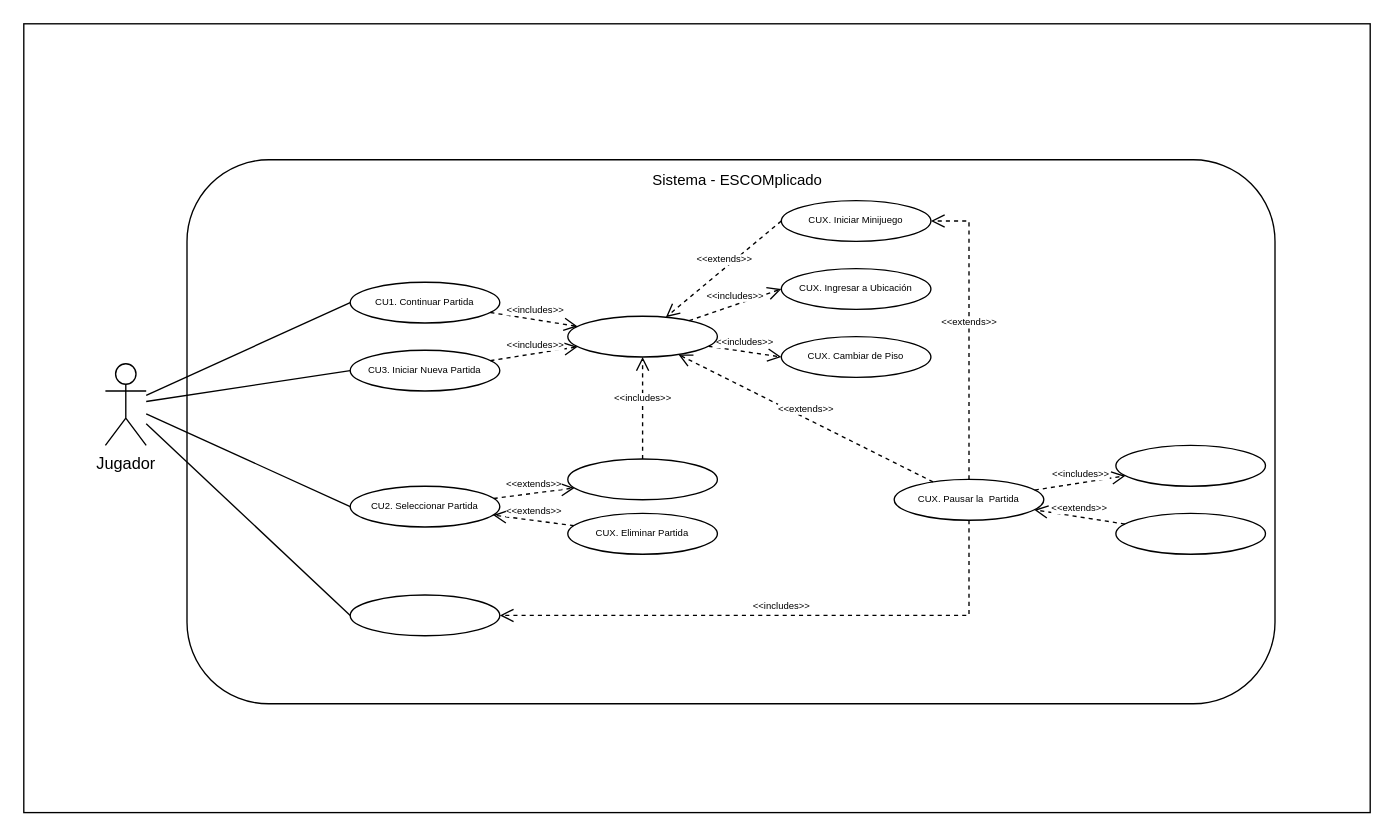
Some shapes in this 1394 by 836 pixel diagram are drawn without their labels. Each missing label, with the box of its shape:
CU3. Salir del Juego: (349, 594, 500, 636)
CUX. Explorar Mapa: (566, 315, 717, 357)
CUX. Guardar Partida: (1115, 512, 1265, 554)
CUX. Reanudar Partida: (1115, 444, 1265, 486)
CUX. Seleccionar Partida Guardada a Cargar: (566, 458, 717, 500)
